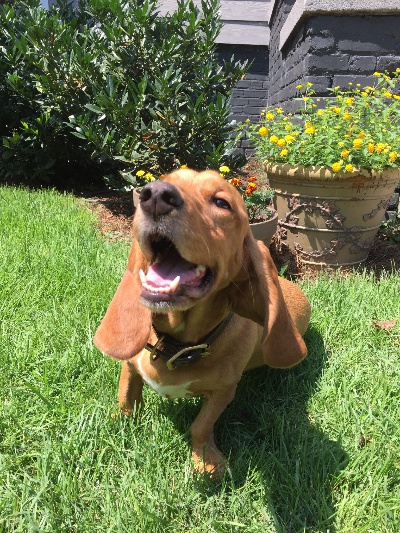daisy: (91, 150, 309, 386)
